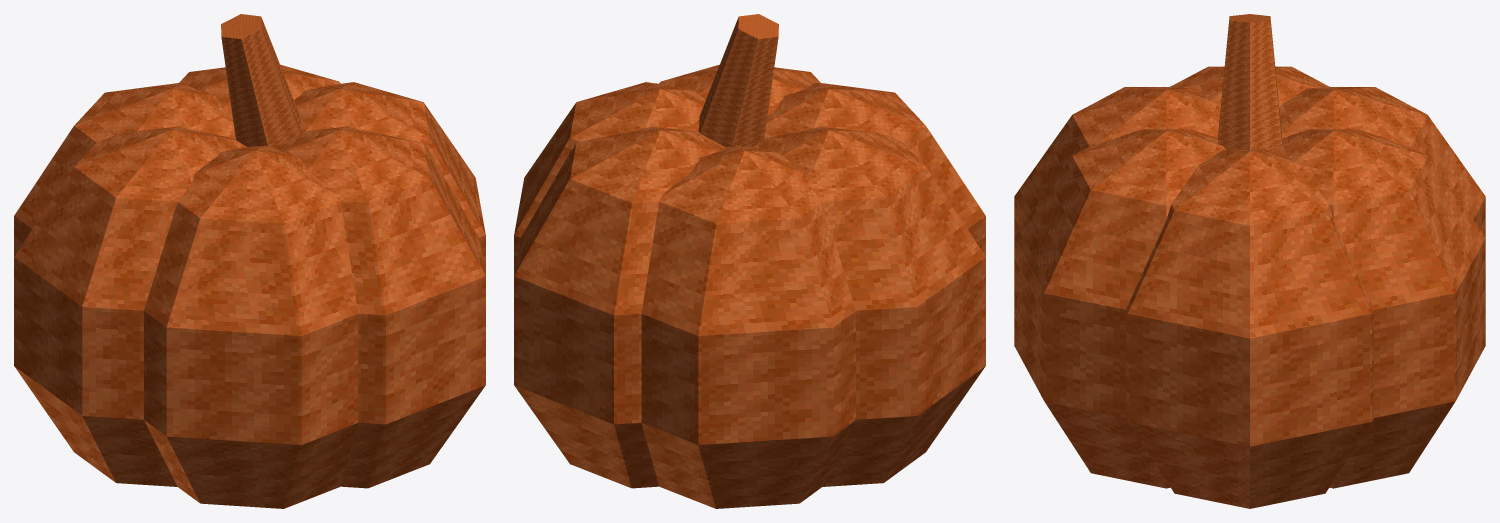
The model's file is abobora_assada.glb.
3 views of the same model, side by side, from view 1: azimuth 30°, elevation 25°; view 2: azimuth 150°, elevation 25°; view 3: azimuth 270°, elevation 25° (orthographic).
Visible parts, largest first — view 1: abobora_assada; view 2: abobora_assada; view 3: abobora_assada.
Part boxes in pixels (x1,y1,x2,y2): abobora_assada: (14, 14, 485, 508); abobora_assada: (514, 14, 985, 508); abobora_assada: (1014, 14, 1485, 508).
Size of the model in its own units: 0.4566 by 0.4536 by 0.4396.
1 material, 1 textured.
